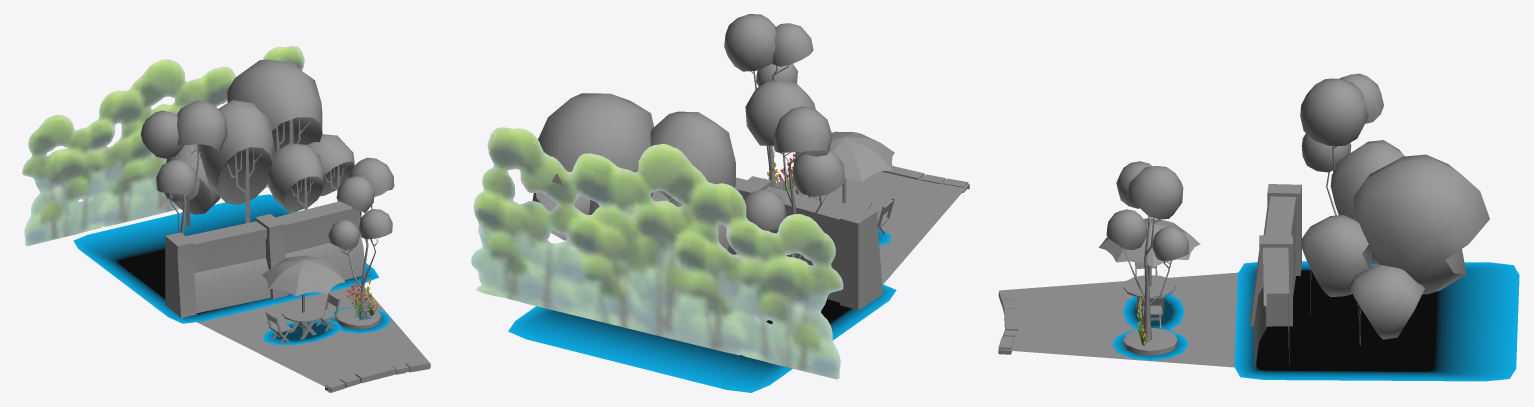
Rendered from CharacterWedge (1).fbx.
The picture shows the model from 3 angles, left to right: view 1: azimuth 30°, elevation 25°; view 2: azimuth 150°, elevation 25°; view 3: azimuth 270°, elevation 25°; orthographic projection. The views are drawn at different scales.
Parts seen in each view (by area): view 1: TreeBillboard (1), Tree_A_Cluster (1), Building_Shadow, Start_Wedge, WallBig (2), Tree_B (3), WallBig (3), Tree_B (4), Table (1), Round_Shadow (1), ParkMound_D (2), Flowers_C (+2 smaller); view 2: TreeBillboard (1), Tree_A_Cluster (1), Building_Shadow, Tree_B (3), WallBig (2), Start_Wedge, Tree_B (4), Table (1), WallBig (3); view 3: Building_Shadow, Tree_A_Cluster (1), Start_Wedge, Tree_B (4), Tree_B (3), WallBig (3), Table (1), WallBig (2), Round_Shadow (1), ParkMound_D (2), Round_Shadow.
Boxes of the visible parts, x1,y1,x2,y2 form: TreeBillboard (1): [22, 46, 304, 245]; Tree_A_Cluster (1): [166, 59, 354, 226]; Building_Shadow: [73, 194, 379, 323]; Start_Wedge: [197, 284, 430, 392]; WallBig (2): [165, 221, 270, 317]; Tree_B (3): [140, 101, 227, 234]; WallBig (3): [255, 201, 365, 299]; Tree_B (4): [328, 157, 394, 316]; Table (1): [262, 255, 345, 343]; Round_Shadow (1): [263, 319, 341, 344]; ParkMound_D (2): [336, 307, 381, 329]; Flowers_C: [346, 281, 375, 320]; TreeBillboard (1): [471, 127, 843, 379]; Tree_A_Cluster (1): [532, 93, 735, 249]; Building_Shadow: [508, 284, 896, 392]; Tree_B (3): [744, 80, 844, 258]; WallBig (2): [766, 186, 882, 310]; Start_Wedge: [776, 171, 969, 283]; Tree_B (4): [724, 14, 813, 188]; Table (1): [795, 131, 894, 240]; WallBig (3): [727, 176, 771, 254]; Building_Shadow: [1234, 261, 1519, 381]; Tree_A_Cluster (1): [1301, 140, 1489, 345]; Start_Wedge: [1000, 272, 1237, 367]; Tree_B (4): [1106, 161, 1189, 342]; Tree_B (3): [1300, 73, 1383, 215]; WallBig (3): [1250, 235, 1292, 370]; Table (1): [1099, 218, 1200, 327]; WallBig (2): [1263, 184, 1301, 296]; Round_Shadow (1): [1123, 294, 1184, 330]; ParkMound_D (2): [1123, 327, 1177, 355]; Round_Shadow: [1112, 330, 1188, 360].
Bounding box in the file's own units: 15.36 × 8.63 × 18.5.
